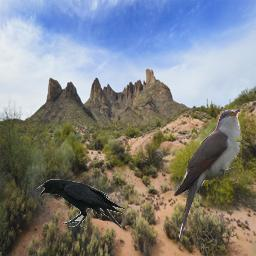Crow: (37, 179, 127, 229)
Cuckoo: (173, 109, 242, 241)
